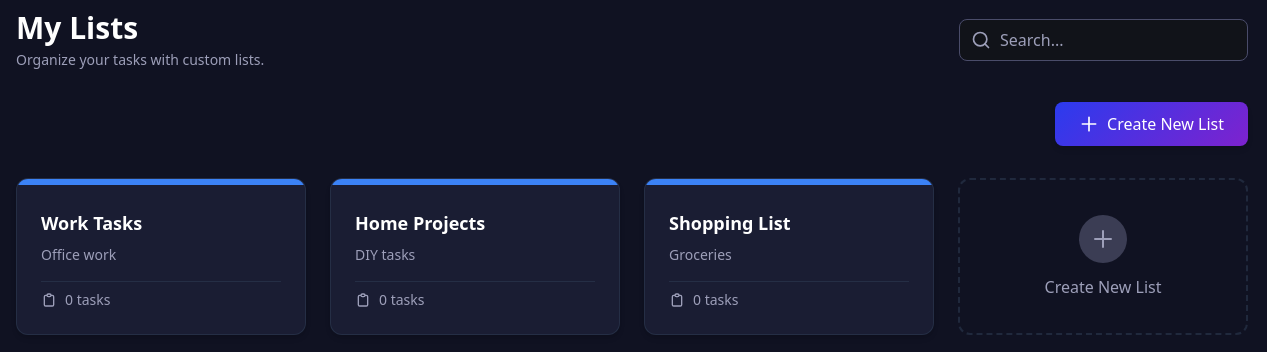
Scenario: ListsContainer - Integration Tests › should filter lists by search query
The width and height of the screenshot is (1267, 352).
// Type search query
Step 1. Type "work" into the field with placeholder "Search..." → (1104, 40), box [959,19,1248,61]
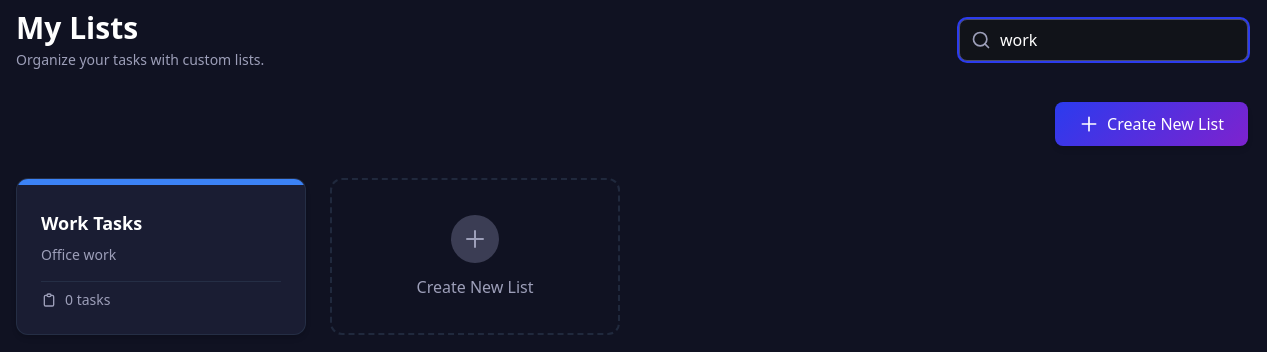
Expected: the heading "Work Tasks" is shown, [41,211,142,235]
Expected: the button "Home Projects" is gone
Expected: the button "Shopping List" is gone
